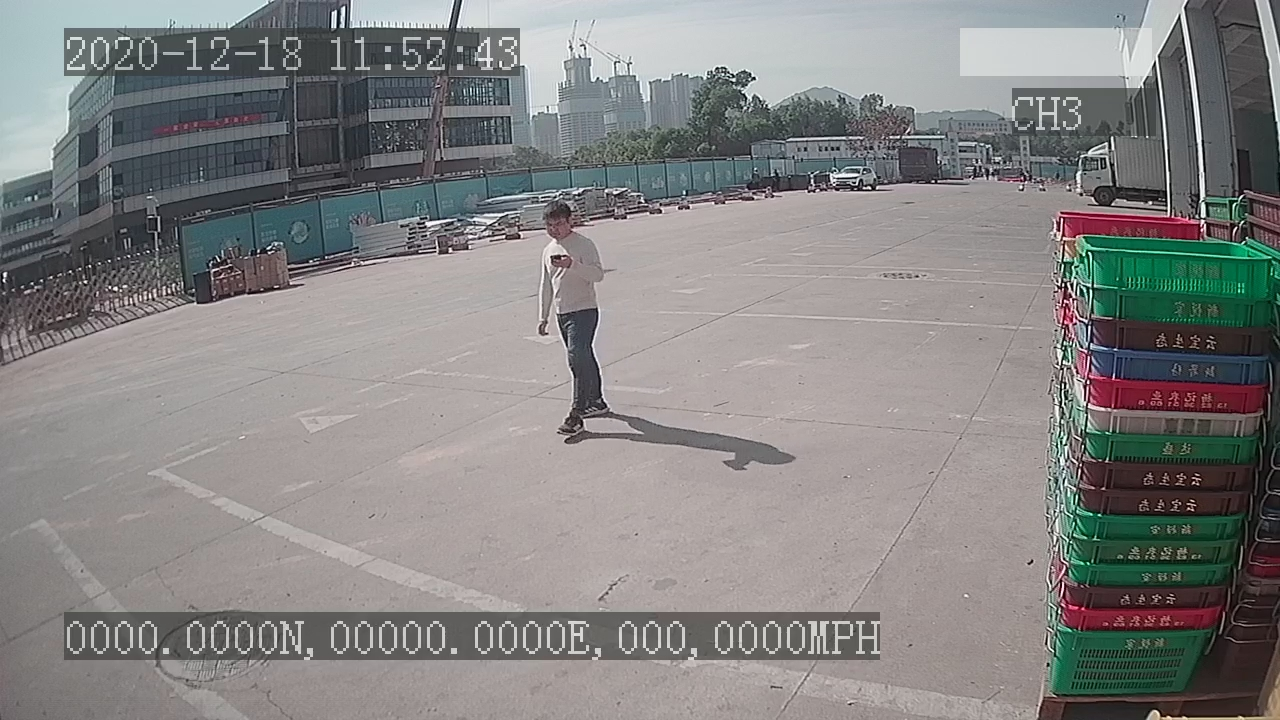person: (524, 197, 617, 444)
